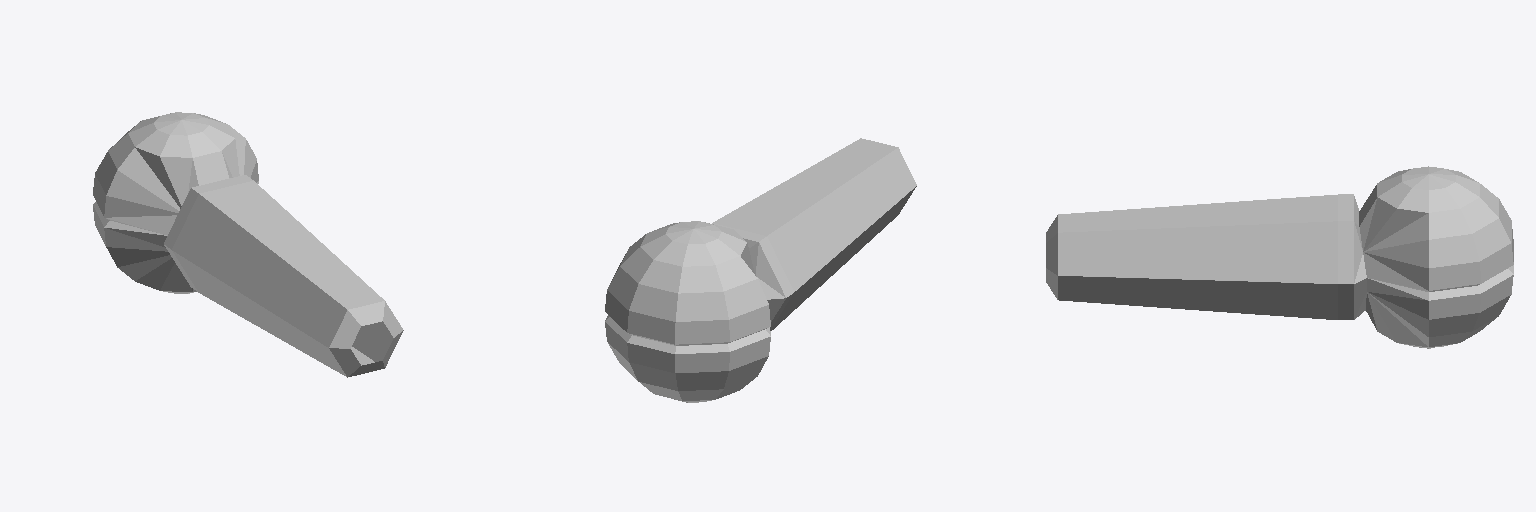
The model's file is thigh.obj.
The picture shows the model from 3 angles: view 1: azimuth 30°, elevation 25°; view 2: azimuth 150°, elevation 25°; view 3: azimuth 270°, elevation 25°; orthographic projection.
Parts seen in each view (by area): view 1: Sphere; view 2: Sphere; view 3: Sphere.
Part boxes in pixels (bbox=[...]): Sphere: bbox=[93, 112, 403, 377]; Sphere: bbox=[605, 138, 916, 402]; Sphere: bbox=[1046, 166, 1513, 348].
Bounding box in the file's own units: 7.92 × 7.99 × 20.72.